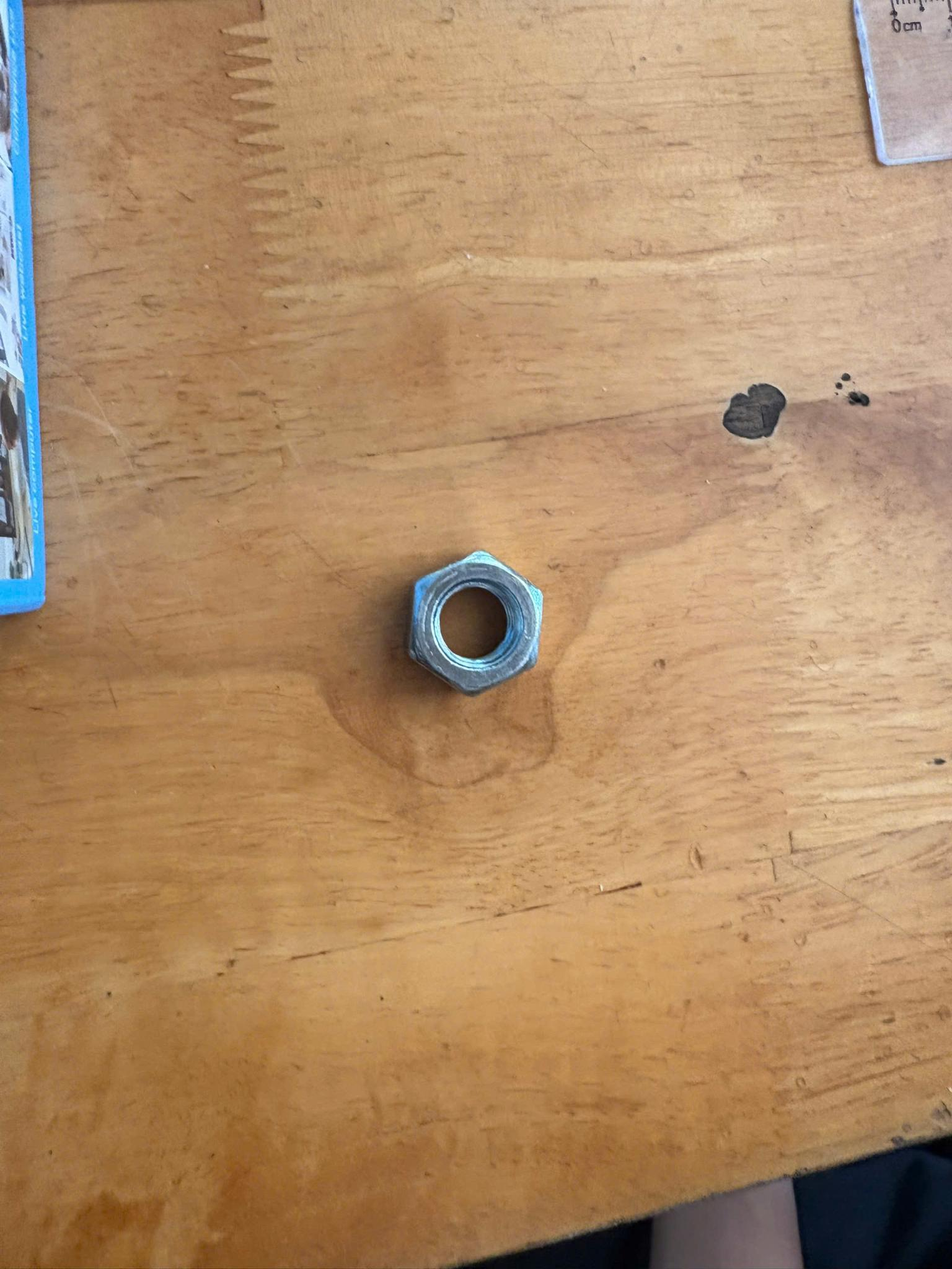nut: (397, 526, 563, 712)
